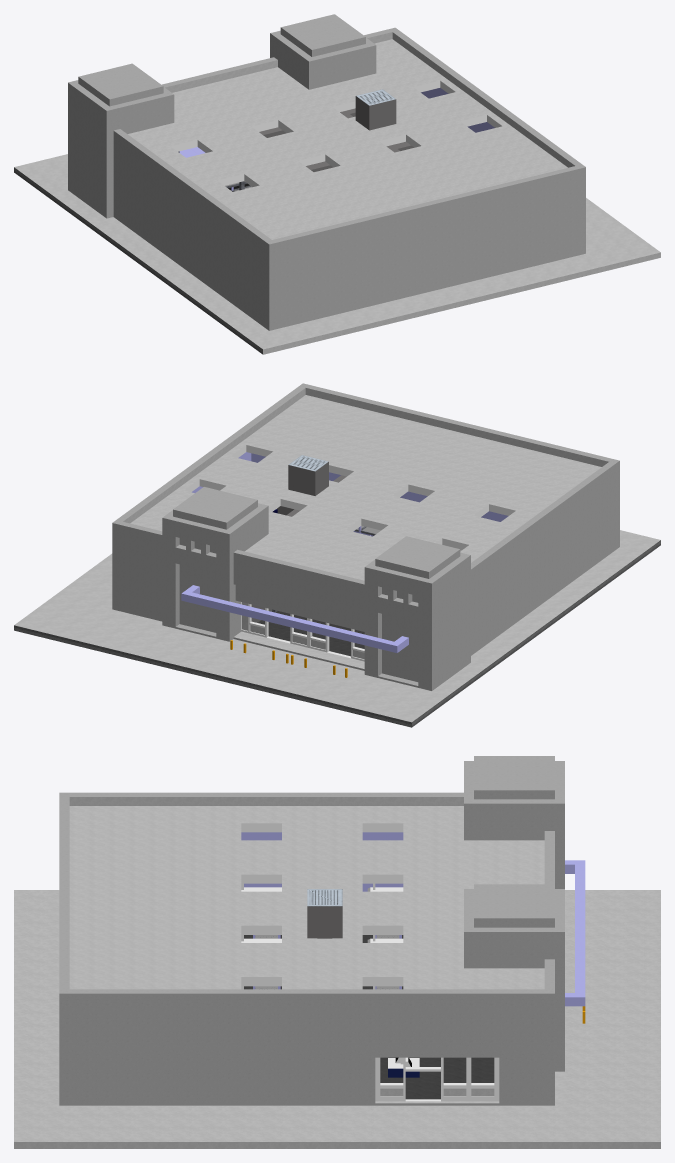
The model's file is Walmart.fbx.
3 renders of one model, top to bottom at view 1: azimuth 30°, elevation 25°; view 2: azimuth 150°, elevation 25°; view 3: azimuth 270°, elevation 25°, orthographic. The views are drawn at different scales.
Parts seen in each view (by area): view 1: MaterialMesh_4, MaterialMesh_7, MaterialMesh_11, MaterialMesh_1, MaterialMesh_2; view 2: MaterialMesh_4, MaterialMesh_7, MaterialMesh_2, MaterialMesh_5, MaterialMesh_11, MaterialMesh_1, MaterialMesh; view 3: MaterialMesh_4, MaterialMesh_7, MaterialMesh_11, MaterialMesh_5, MaterialMesh, MaterialMesh_1, MaterialMesh_9.
Part boxes in pixels (x1,y1,x2,y2): MaterialMesh_4: [14, 32, 660, 354]; MaterialMesh_7: [68, 14, 585, 330]; MaterialMesh_11: [171, 80, 501, 189]; MaterialMesh_1: [259, 96, 413, 171]; MaterialMesh_2: [14, 167, 262, 354]; MaterialMesh_4: [14, 388, 660, 722]; MaterialMesh_7: [112, 383, 619, 690]; MaterialMesh_2: [14, 540, 660, 727]; MaterialMesh_5: [181, 452, 508, 652]; MaterialMesh_11: [184, 445, 515, 677]; MaterialMesh_1: [251, 462, 364, 632]; MaterialMesh: [258, 612, 364, 656]; MaterialMesh_4: [14, 797, 660, 1148]; MaterialMesh_7: [59, 756, 564, 1105]; MaterialMesh_11: [241, 823, 585, 1101]; MaterialMesh_5: [241, 832, 585, 1006]; MaterialMesh: [244, 935, 494, 1099]; MaterialMesh_1: [307, 906, 342, 938]; MaterialMesh_9: [307, 889, 342, 906].
Size of the model in its own units: 5900 by 1700 by 6400.
